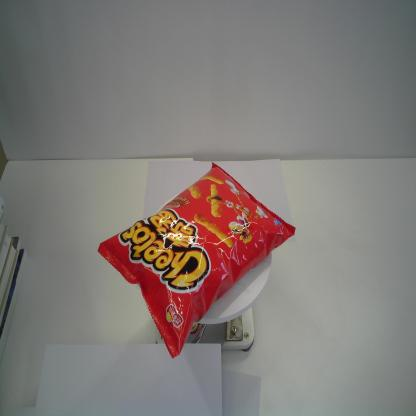Puffed Food: (96, 162, 296, 358)
